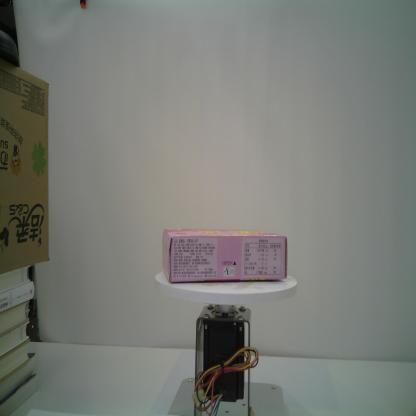Dessert: (161, 226, 289, 285)
